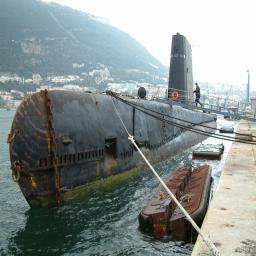submarine: (5, 27, 225, 219)
